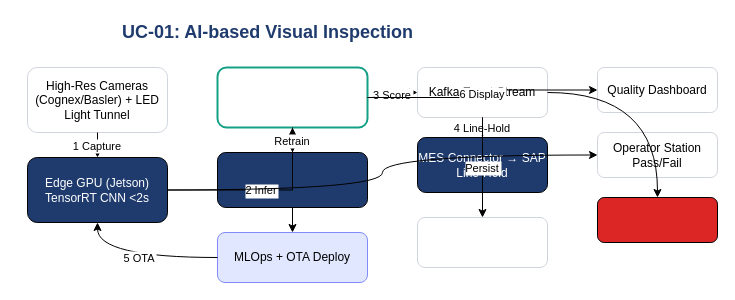
Image size: 735x300. Some labels were removed from this diagram. Here are the shapes that lost their labels. From the top down, the centre of each, then its label:
point (292, 97): CNN Anomaly (ResNet50, EfficientNet)
point (292, 180): SageMaker Training Pipeline
point (657, 219): Alerts (Slack/Teams)
point (482, 242): Defect DB (PostgreSQL)
